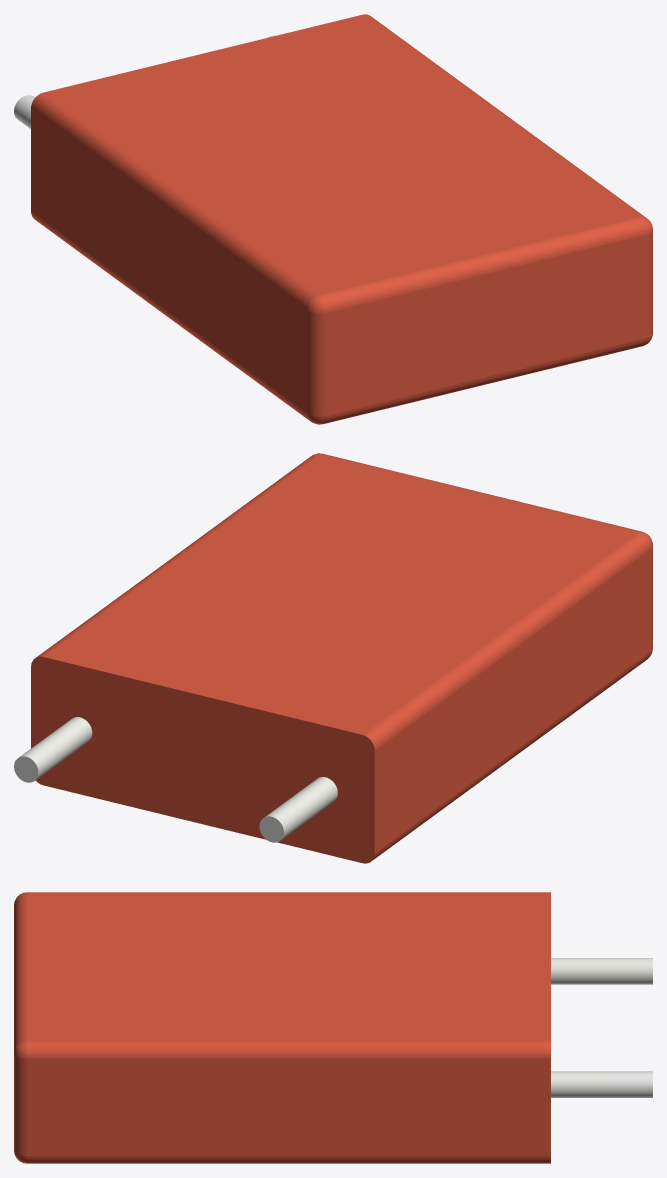
Rendered from C_Rect_L7.0mm_W2.5mm_P5.00mm.glb.
3 views of the same model, one above another, from view 1: azimuth 30°, elevation 25°; view 2: azimuth 150°, elevation 25°; view 3: azimuth 270°, elevation 25° (orthographic). The views are drawn at different scales.
Visible parts, largest first — view 1: Shape_IndexedFaceSet.009, Shape_IndexedFaceSet.008, Shape_IndexedFaceSet, Shape_IndexedFaceSet.004, Shape_IndexedFaceSet.016, Shape_IndexedFaceSet.015, Shape_IndexedFaceSet.002, Shape_IndexedFaceSet.001, Shape_IndexedFaceSet.011, Shape_IndexedFaceSet.017; view 2: Shape_IndexedFaceSet.009, Shape_IndexedFaceSet.003, Shape_IndexedFaceSet, Shape_IndexedFaceSet.004, Shape_IndexedFaceSet.013, Shape_IndexedFaceSet.014, Shape_IndexedFaceSet.001, Shape_IndexedFaceSet.011, Shape_IndexedFaceSet.016; view 3: Shape_IndexedFaceSet.009, Shape_IndexedFaceSet.012, Shape_IndexedFaceSet.011, Shape_IndexedFaceSet.010, Shape_IndexedFaceSet.013, Shape_IndexedFaceSet.014, Shape_IndexedFaceSet.016, Shape_IndexedFaceSet.017, Shape_IndexedFaceSet.004.
Boxes of the visible parts, x1,y1,x2,y2 form: Shape_IndexedFaceSet.009: (43,14,638,294); Shape_IndexedFaceSet.008: (327,235,645,415); Shape_IndexedFaceSet: (31,108,307,412); Shape_IndexedFaceSet.004: (31,92,319,310); Shape_IndexedFaceSet.016: (320,217,645,312); Shape_IndexedFaceSet.015: (324,338,645,423); Shape_IndexedFaceSet.002: (307,311,326,416); Shape_IndexedFaceSet.001: (31,211,309,420); Shape_IndexedFaceSet.011: (363,14,645,217); Shape_IndexedFaceSet.017: (646,231,652,337); Shape_IndexedFaceSet.009: (43,454,638,734); Shape_IndexedFaceSet.003: (31,656,374,863); Shape_IndexedFaceSet: (374,548,651,852); Shape_IndexedFaceSet.004: (362,532,650,750); Shape_IndexedFaceSet.013: (265,777,337,839); Shape_IndexedFaceSet.014: (19,717,92,779); Shape_IndexedFaceSet.001: (372,651,650,860); Shape_IndexedFaceSet.011: (36,454,318,657); Shape_IndexedFaceSet.016: (320,453,641,532); Shape_IndexedFaceSet.009: (27,893,550,1040); Shape_IndexedFaceSet.012: (27,1058,550,1155); Shape_IndexedFaceSet.011: (27,1041,550,1058); Shape_IndexedFaceSet.010: (27,1156,550,1163); Shape_IndexedFaceSet.013: (551,958,652,984); Shape_IndexedFaceSet.014: (551,1071,652,1097); Shape_IndexedFaceSet.016: (14,893,27,1050); Shape_IndexedFaceSet.017: (14,1054,27,1155); Shape_IndexedFaceSet.004: (27,892,550,893).
Size of the model in its own units: 2.76 by 0.984 by 4.69.
